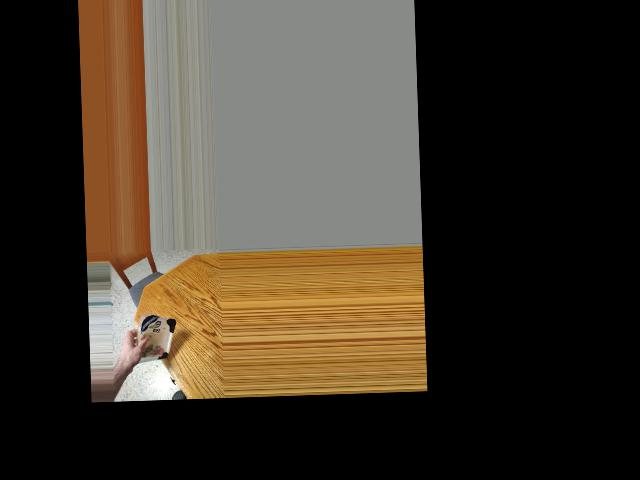cheese: (136, 311, 174, 368)
